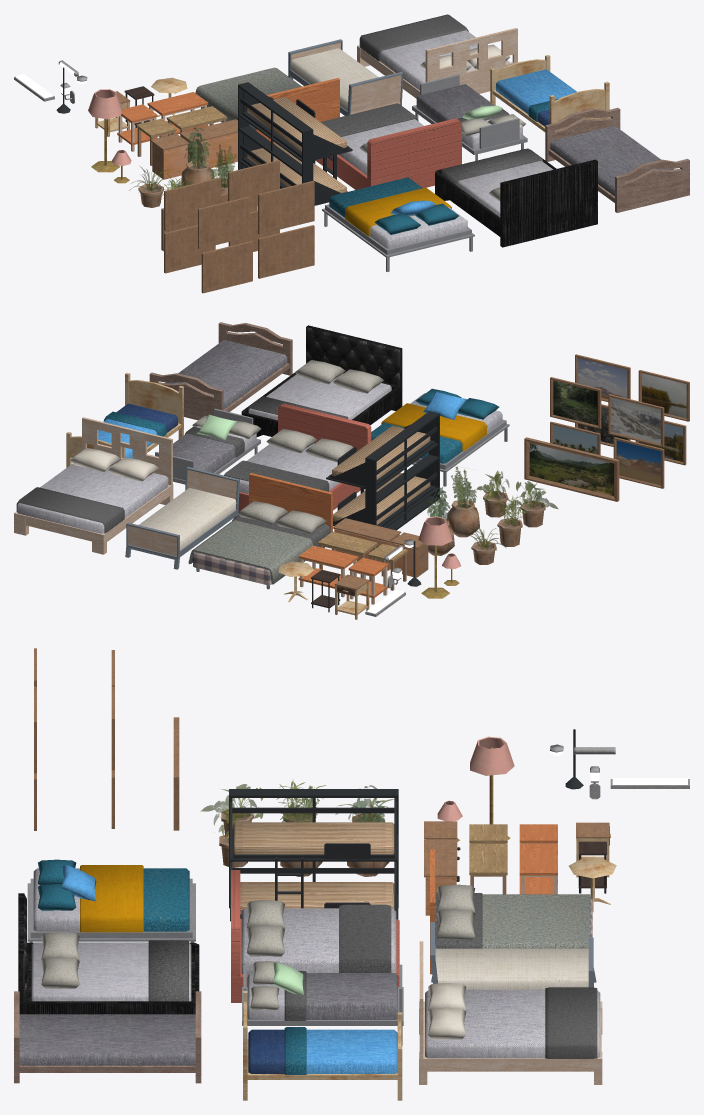
The model's file is beds-others.glb.
3 renders of one model, top to bottom at view 1: azimuth 30°, elevation 25°; view 2: azimuth 150°, elevation 25°; view 3: azimuth 270°, elevation 25°, orthographic. The views are drawn at different scales.
Parts seen in each view (by area): view 1: Bed_01, Bed_05, Bed, Bed_06, Bed_07, Bed_02, Bed_03, Bed_08, Bed_04, Bed_09, Paintings_06, Paintings_08 (+22 smaller); view 2: Bed_07, Bed_06, Bed_01, Bed_09, Bed, Bed_08, Bed_05, Bed_03, Paintings, Bed_02, Bed_04, Paintings_03 (+34 smaller); view 3: Bed_06, Bed_07, Bed_01, Bed, Bed_02, Bed_05, Bed_03, Bed_09, Bed_04, Bed_08, Table_38, Lamps_01 (+24 smaller).
Part boxes in pixels (<box>): Bed_01: <box>435,148,597,247</box>; Bed_05: <box>315,103,461,189</box>; Bed: <box>545,107,689,212</box>; Bed_06: <box>238,82,352,205</box>; Bed_07: <box>357,14,517,98</box>; Bed_02: <box>322,177,474,271</box>; Bed_03: <box>490,55,609,131</box>; Bed_08: <box>288,39,403,115</box>; Bed_04: <box>412,74,527,160</box>; Bed_09: <box>195,67,339,144</box>; Paintings_06: <box>258,225,314,278</box>; Paintings_08: <box>258,181,314,234</box>; Bed_07: <box>14,417,173,554</box>; Bed_06: <box>326,411,439,530</box>; Bed_01: <box>241,325,402,436</box>; Bed_09: <box>188,473,332,589</box>; Bed: <box>149,322,292,420</box>; Bed_08: <box>125,467,239,569</box>; Bed_05: <box>224,403,371,511</box>; Bed_03: <box>66,372,183,467</box>; Paintings: <box>524,437,619,501</box>; Bed_02: <box>371,393,509,486</box>; Bed_04: <box>155,408,260,484</box>; Paintings_03: <box>608,394,664,446</box>; Bed_06: <box>229,789,398,921</box>; Bed_07: <box>419,941,602,1084</box>; Bed_01: <box>18,893,199,1014</box>; Bed: <box>14,991,201,1083</box>; Bed_02: <box>27,865,195,942</box>; Bed_05: <box>231,870,399,1002</box>; Bed_03: <box>243,990,402,1100</box>; Bed_09: <box>430,849,592,974</box>; Bed_04: <box>242,964,403,1044</box>; Bed_08: <box>430,922,596,989</box>; Table_38: <box>519,843,557,894</box>; Lamps_01: <box>470,736,514,839</box>.
Bounding box in the file's own units: 11.61 × 2.46 × 10.54.
36 materials, 35 textured.
